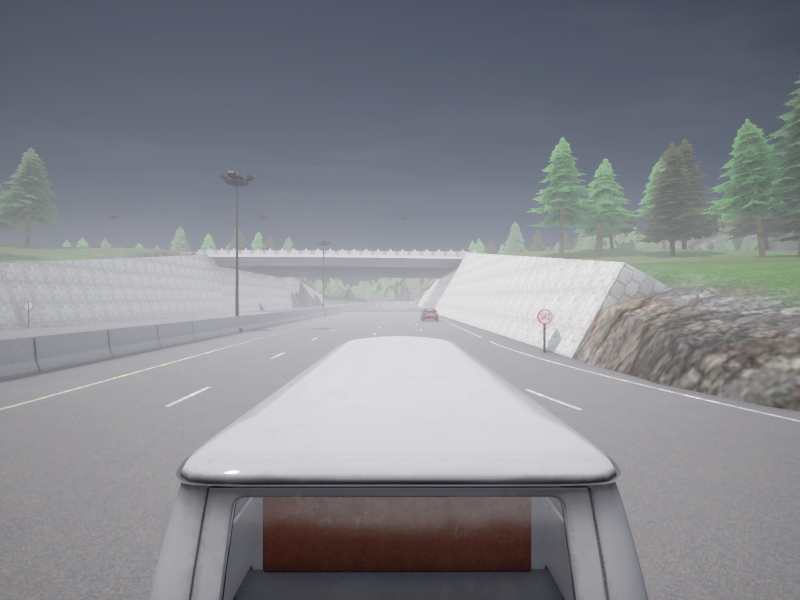vehicle: (149, 336, 647, 599), (420, 308, 437, 320), (374, 302, 380, 307)
